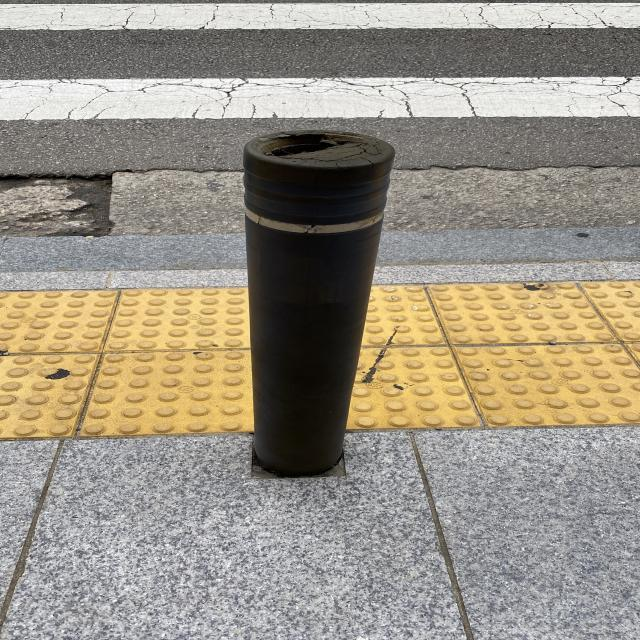pole: (242, 130, 394, 477)
